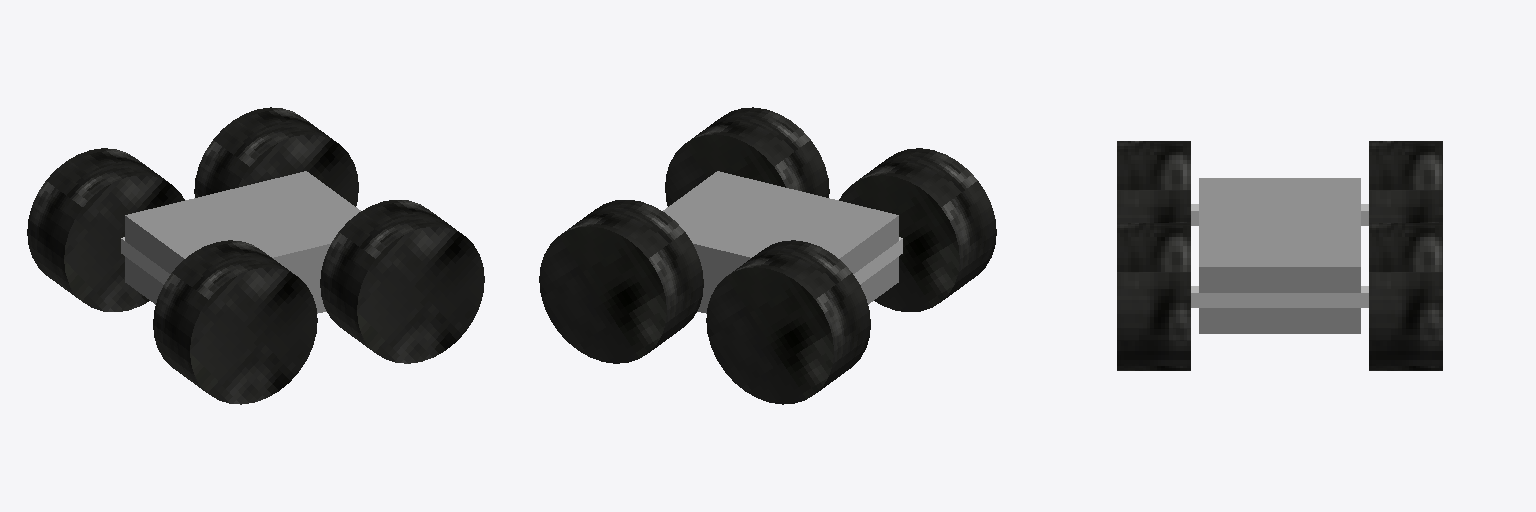
3 views of the same model, side by side, from view 1: azimuth 30°, elevation 25°; view 2: azimuth 150°, elevation 25°; view 3: azimuth 270°, elevation 25° (orthographic).
Parts seen in each view (by area): view 1: Cylinder.003, Cylinder.002, Cube, Cylinder.001, Cylinder, Cube.002; view 2: Cylinder, Cylinder.001, Cube, Cylinder.002, Cylinder.003, Cube.002; view 3: Cube, Cylinder.003, Cylinder, Cylinder.002, Cylinder.001, Cube.001.
Boxes of the visible parts, box(x1,y1,x2,y2) form: Cylinder.003: box(320, 200, 484, 363); Cylinder.002: box(153, 240, 317, 404); Cube: box(125, 171, 360, 313); Cylinder.001: box(27, 148, 184, 311); Cylinder: box(194, 107, 358, 206); Cube.002: box(121, 237, 170, 284); Cylinder: box(539, 200, 703, 363); Cylinder.001: box(706, 240, 870, 404); Cube: box(663, 171, 898, 313); Cylinder.002: box(839, 148, 996, 311); Cylinder.003: box(665, 107, 829, 206); Cube.002: box(853, 237, 902, 284); Cube: box(1199, 178, 1360, 333); Cylinder.003: box(1117, 223, 1190, 370); Cylinder: box(1369, 223, 1442, 370); Cylinder.002: box(1117, 141, 1190, 222); Cylinder.001: box(1369, 141, 1442, 222); Cube.001: box(1191, 286, 1368, 307).
Size of the model in its own units: 20.3 by 8.8 by 19.4.
Materials: 3 (1 with a texture image).